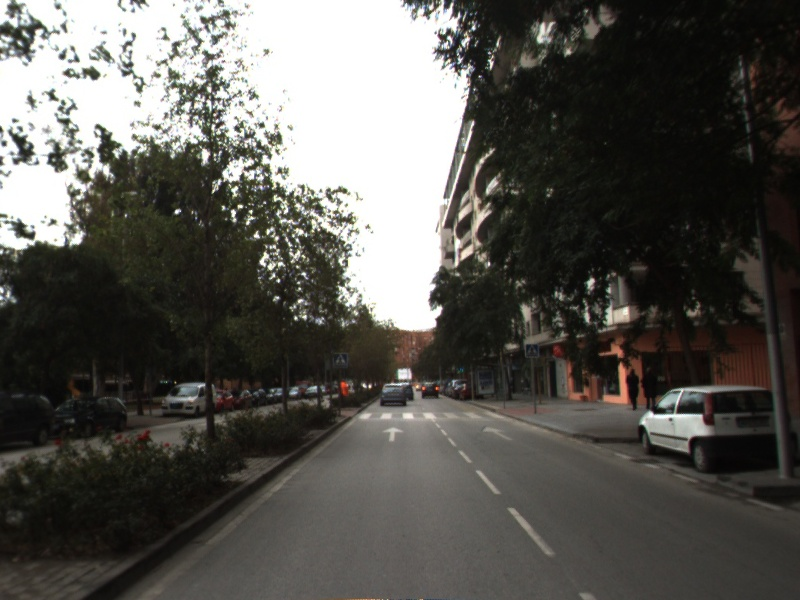STRAIGHT: (480, 424, 516, 442), (380, 425, 406, 444)
